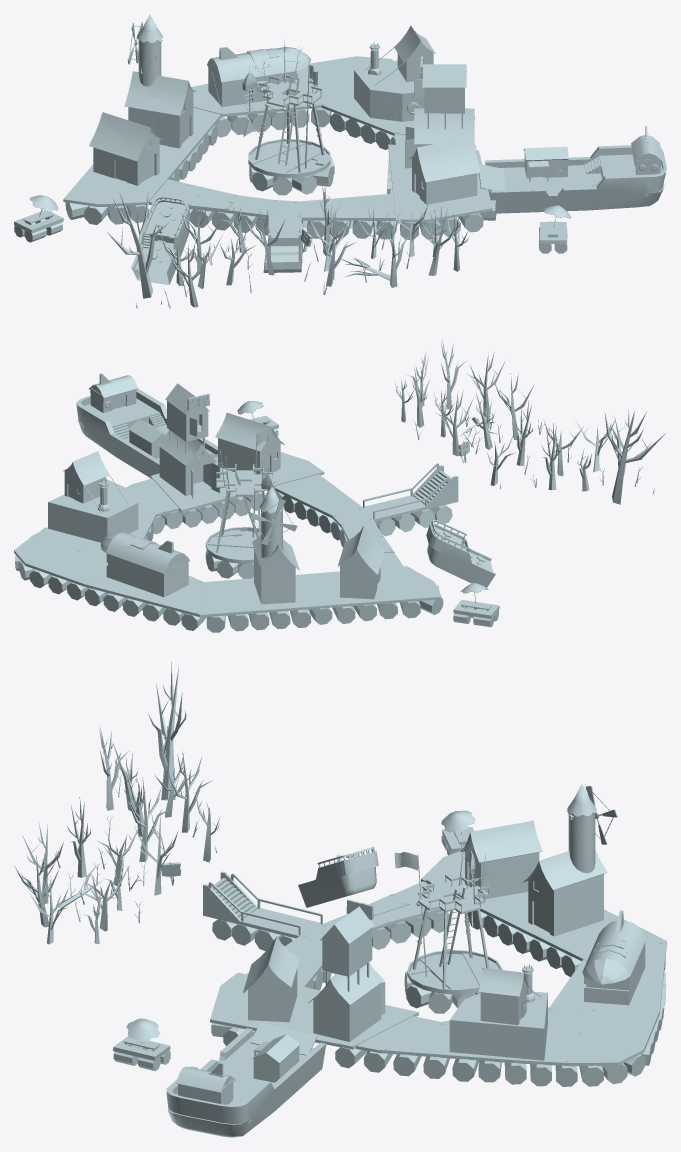
Rendered from Neighborhood_BearTownLocked.fbx.
3 renders of one model, top to bottom at view 1: azimuth 30°, elevation 25°; view 2: azimuth 150°, elevation 25°; view 3: azimuth 270°, elevation 25°, orthographic. The views are drawn at different scales.
Parts seen in each view (by area): view 1: Neighborhood_BearTownLocked_polySurface240; view 2: Neighborhood_BearTownLocked_polySurface240; view 3: Neighborhood_BearTownLocked_polySurface240.
Boxes of the visible parts, x1,y1,x2,y2 form: Neighborhood_BearTownLocked_polySurface240: (14,14,666,308); Neighborhood_BearTownLocked_polySurface240: (14,340,665,632); Neighborhood_BearTownLocked_polySurface240: (14,661,666,1137).
Size of the model in its own units: 6486 by 1708 by 5458.
